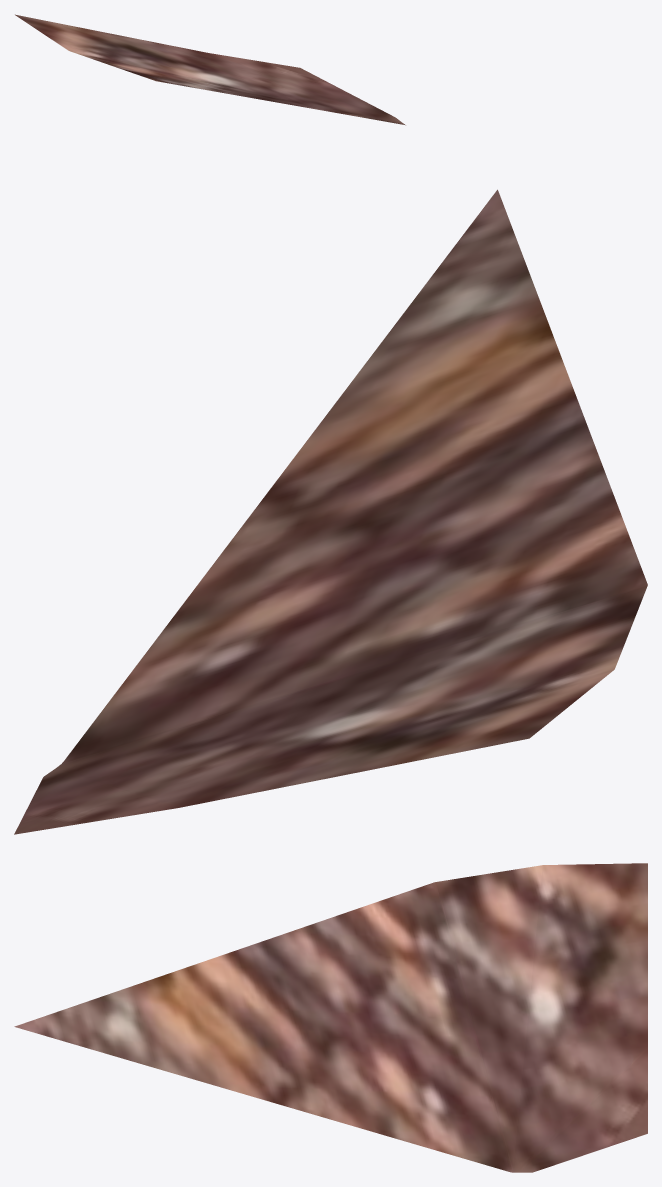
3 renders of one model, top to bottom at view 1: azimuth 30°, elevation 25°; view 2: azimuth 150°, elevation 25°; view 3: azimuth 270°, elevation 25°, orthographic. The views are drawn at different scales.
Bounding box in the file's own units: 0.8179 × 0.3405 × 1.34.
1 material, 1 textured.
